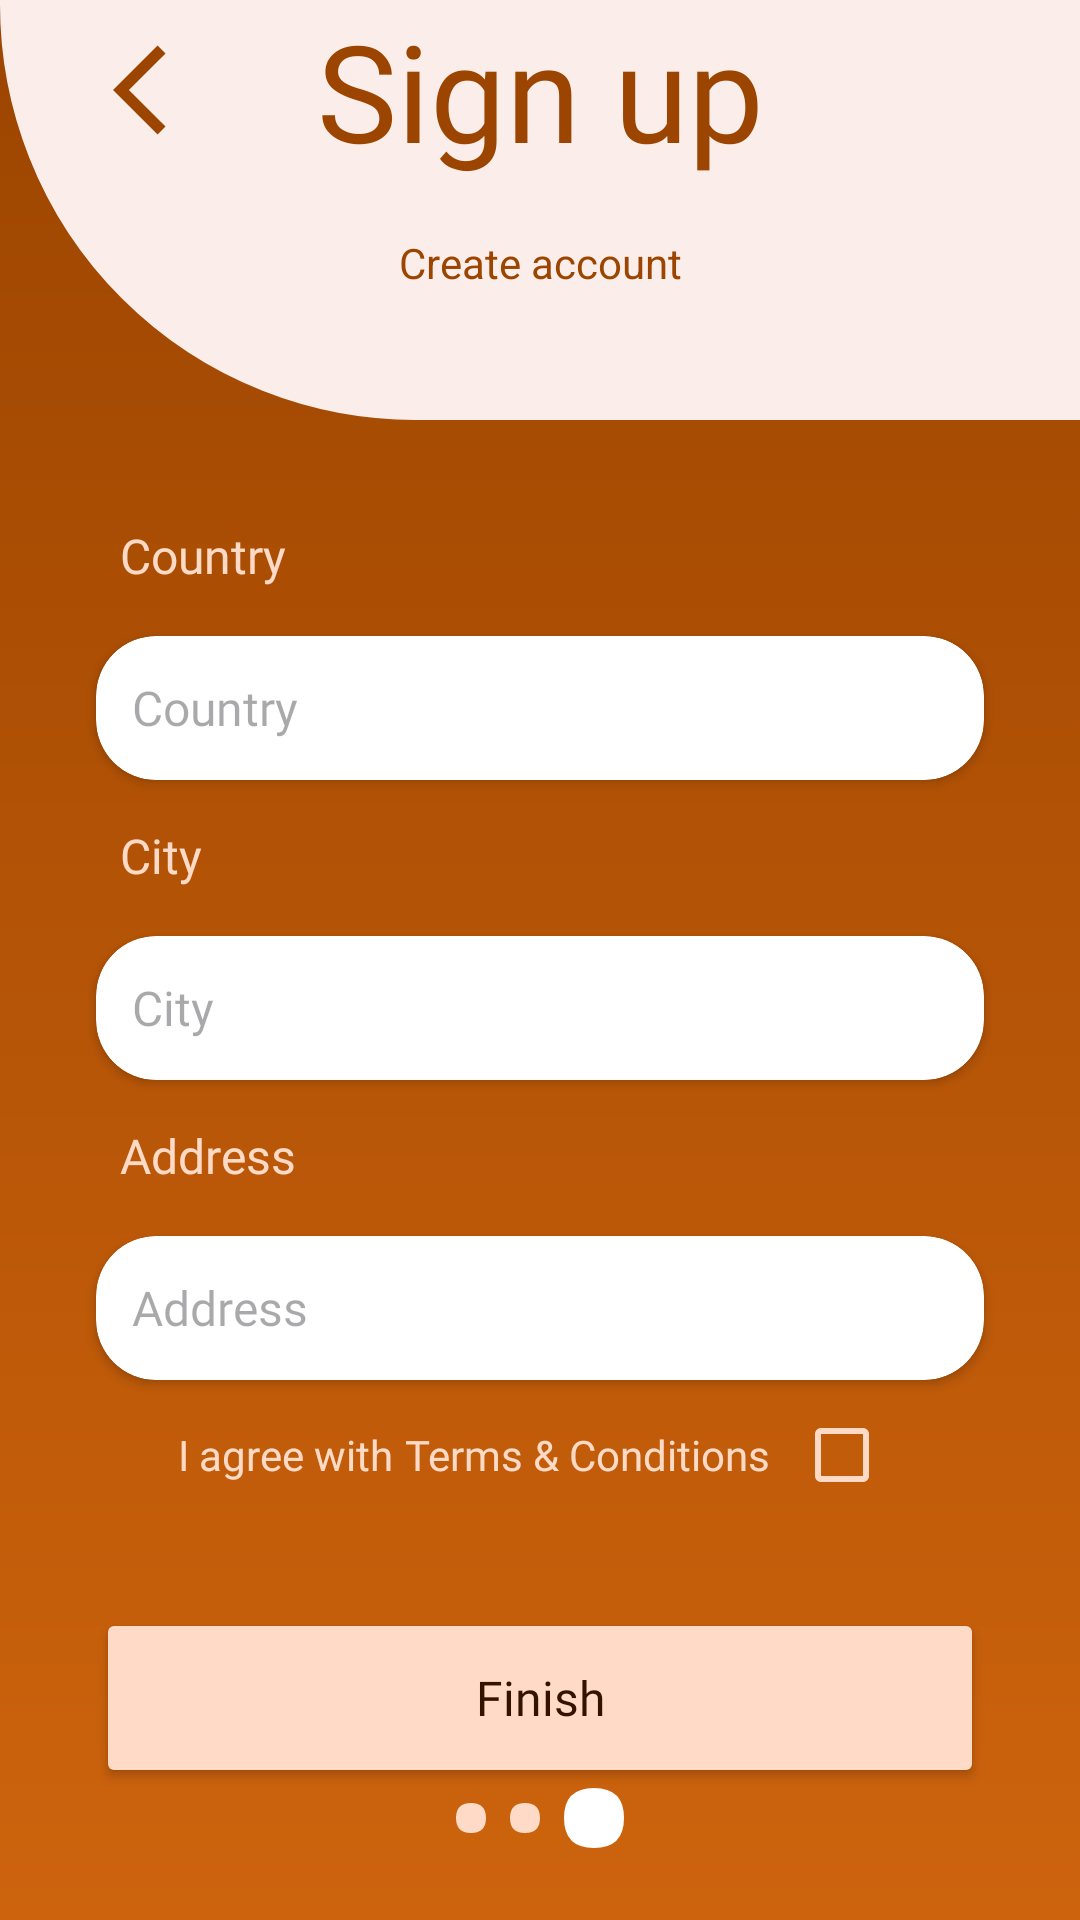

Screen size 1080 × 1920. Icon name, then its center in pixels as point (x, y):
dots: point (540, 1818)
